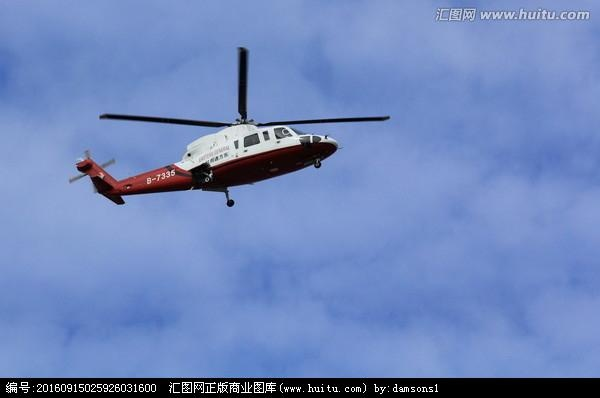airplane: (66, 47, 392, 214)
